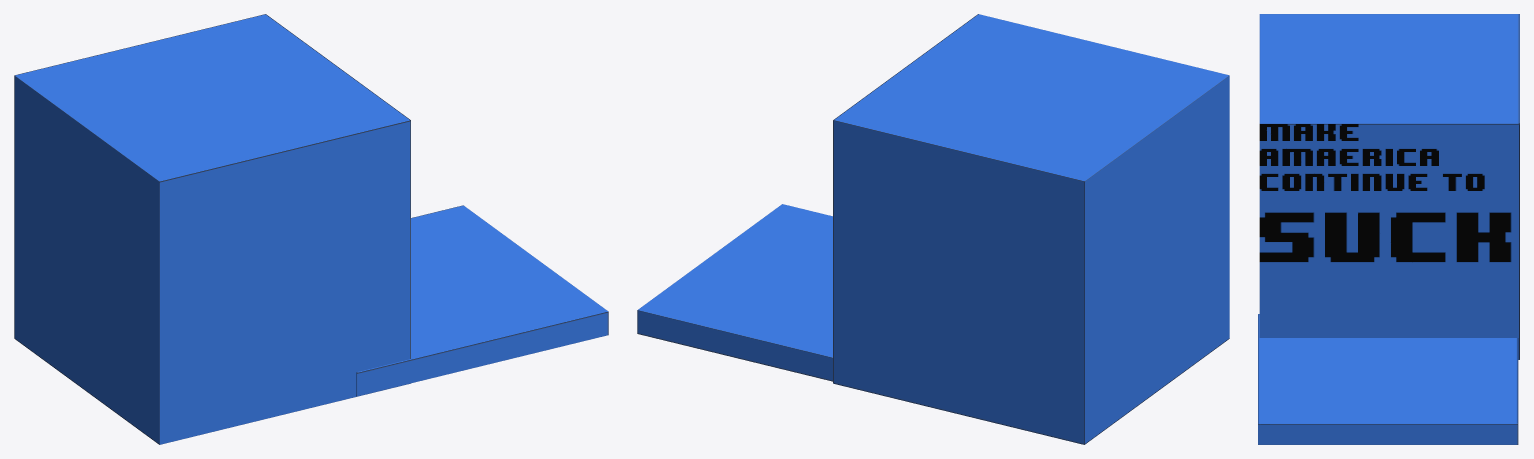
The model's file is Trump Hat.fbx.
3 views of the same model, side by side, from view 1: azimuth 30°, elevation 25°; view 2: azimuth 150°, elevation 25°; view 3: azimuth 270°, elevation 25° (orthographic). The views are drawn at different scales.
Visible parts, largest first — view 1: Cube.001; view 2: Cube.001; view 3: Cube.001.
Boxes of the visible parts, box(x1,y1,x2,y2) form: Cube.001: box(14, 14, 608, 444); Cube.001: box(637, 14, 1229, 444); Cube.001: box(1258, 14, 1519, 444).
Size of the model in its own units: 356 by 200 by 201.
